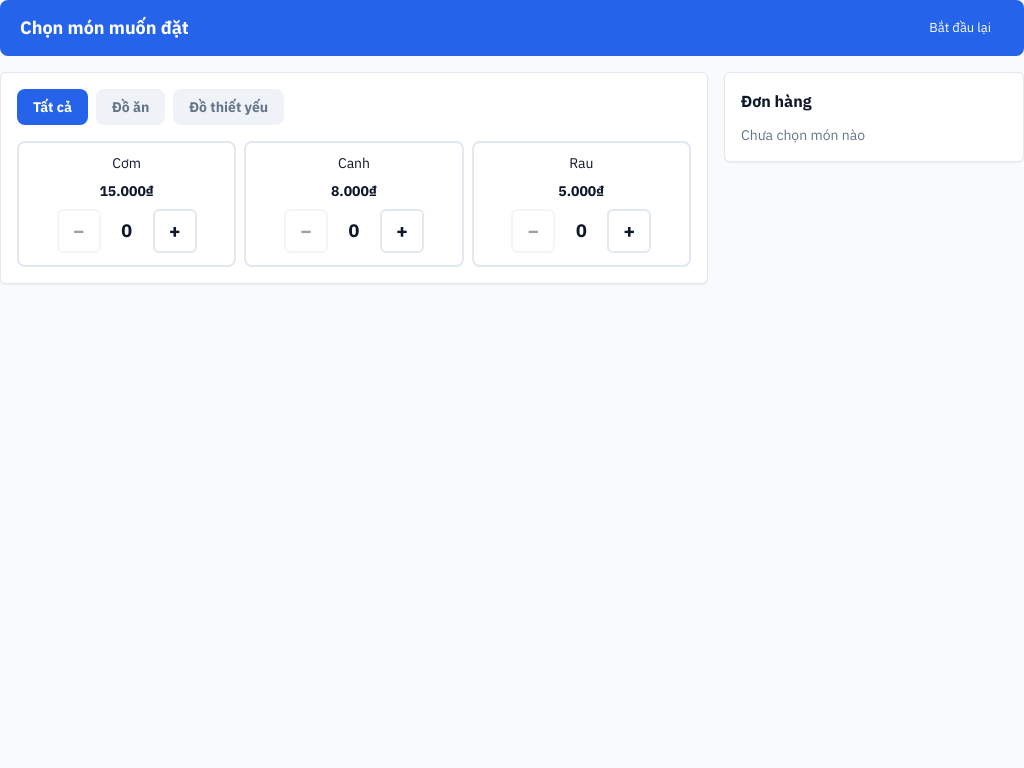
Test: MenuCalculator — global-menu order builder › shows the see-cashier note on 409 and does not advance
Click the button "+" below "15.000" at point(175, 230), box x1=153 y1=208 x2=197 y2=252
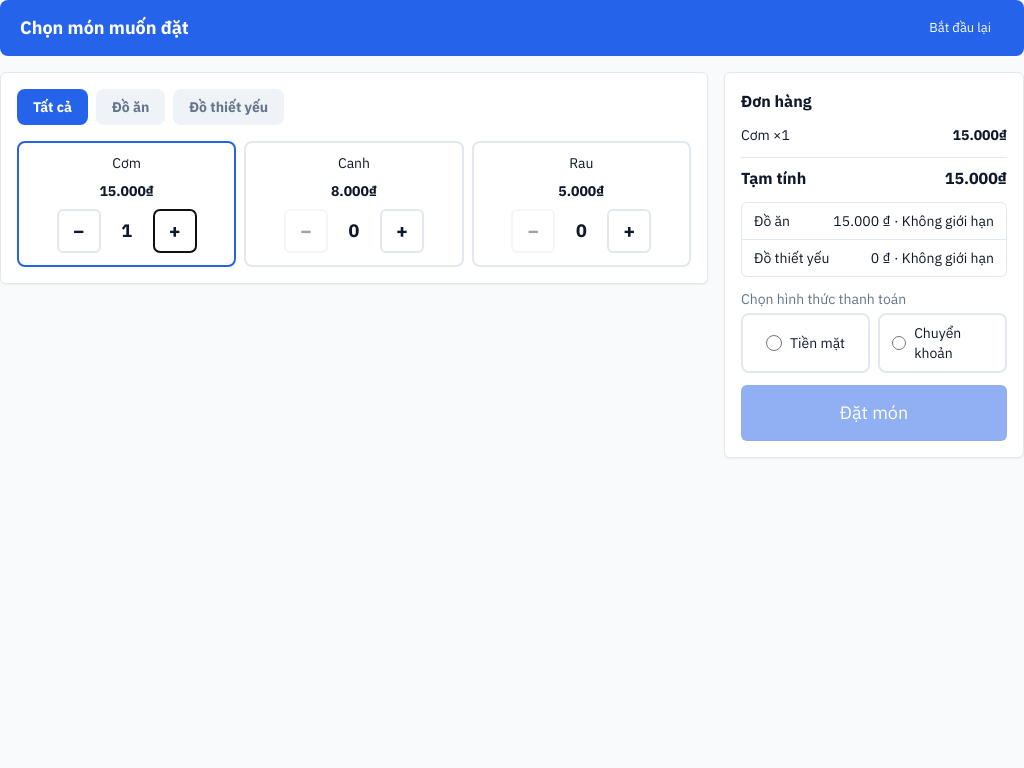
Click the radio button labelled "Tiền mặt" at point(774, 343), box x1=766 y1=335 x2=782 y2=351
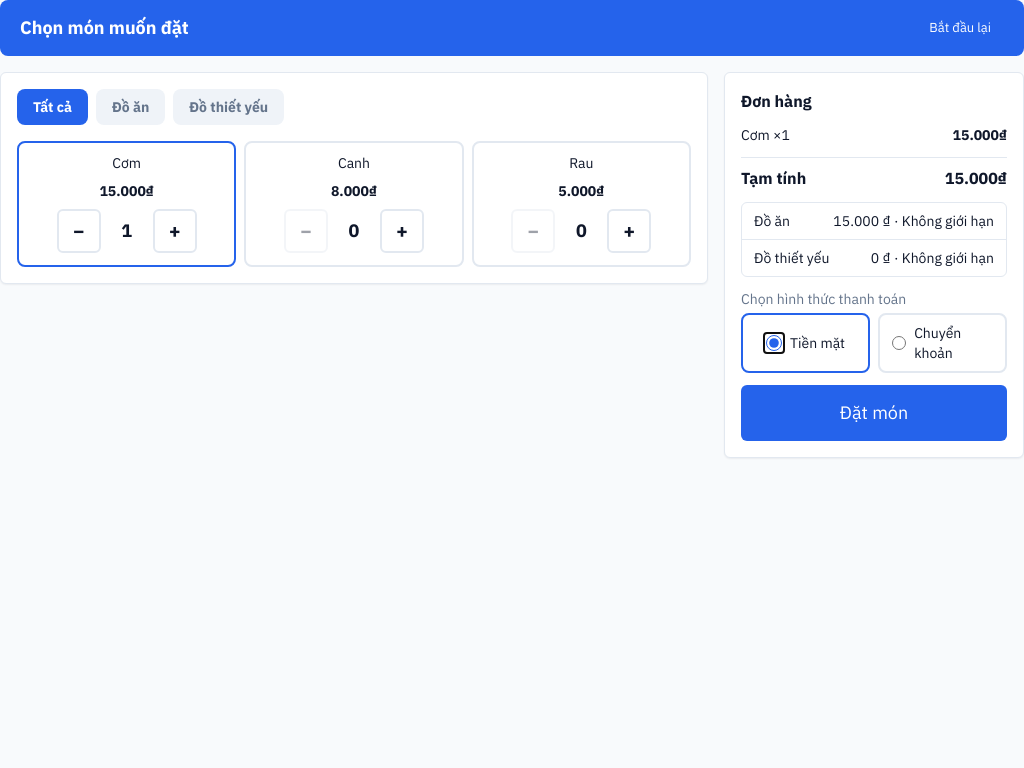
Click the button "Đặt món" at point(874, 413), box x1=741 y1=385 x2=1007 y2=441
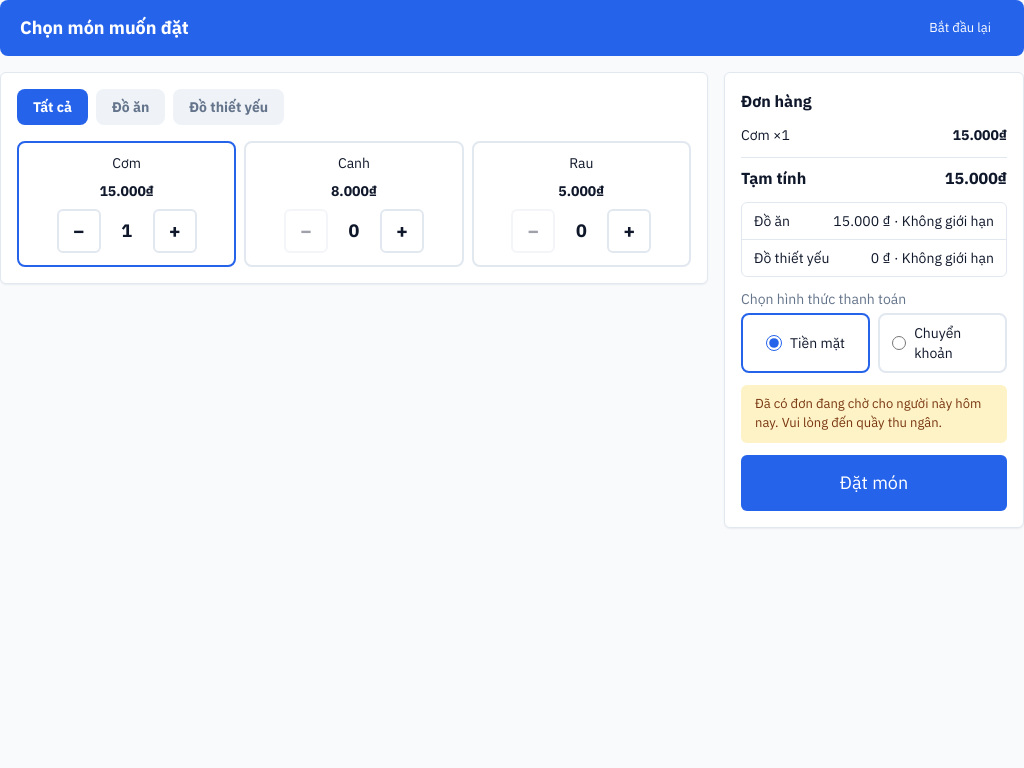
Expected: the text "đến quầy thu ngân" is shown, x1=755 y1=395 x2=981 y2=431
